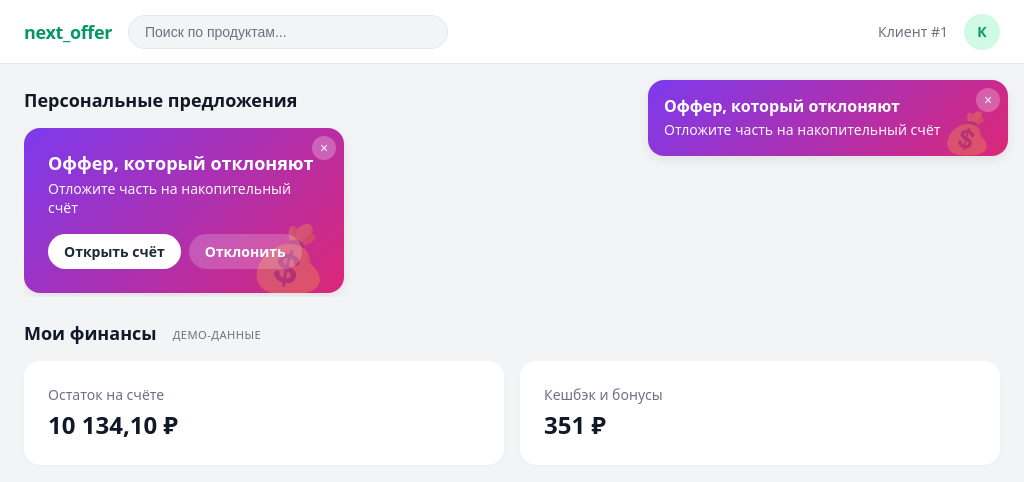
Scenario: new offer toast › removes the matching toast when the offer is declined from the carousel
Click the button "Отклонить" at (245, 251), box [189,234,302,269]
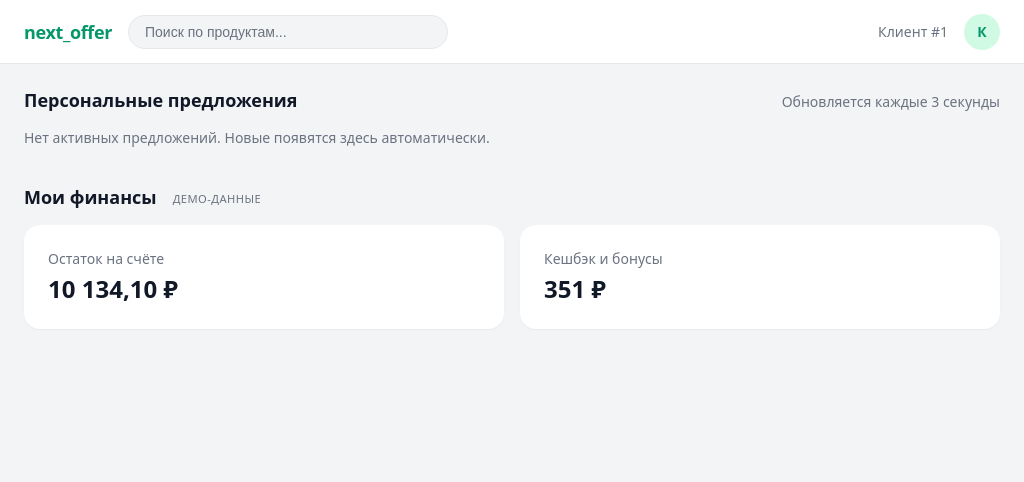
Now the heading "Оффер, который отклоняют" is gone
